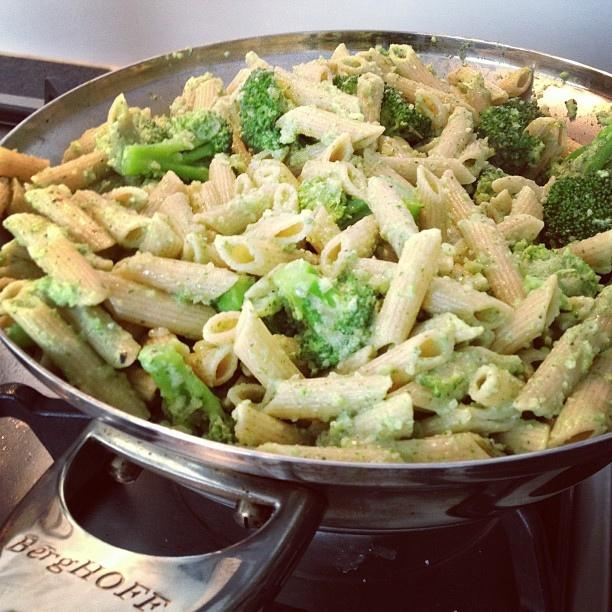broccoli: (136, 335, 240, 446), (274, 259, 376, 369), (542, 122, 612, 246), (121, 109, 234, 180), (476, 96, 546, 176), (238, 66, 292, 153), (520, 243, 604, 298), (380, 80, 444, 140), (112, 114, 166, 172), (380, 176, 425, 225), (210, 275, 255, 314), (473, 164, 510, 204), (336, 194, 374, 232), (420, 374, 464, 398), (332, 74, 358, 96), (464, 254, 489, 274)
